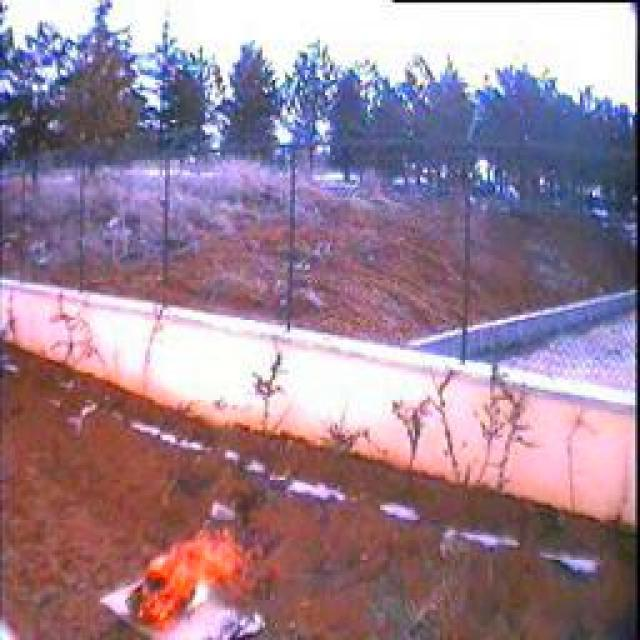Fire: (121, 520, 279, 638)
